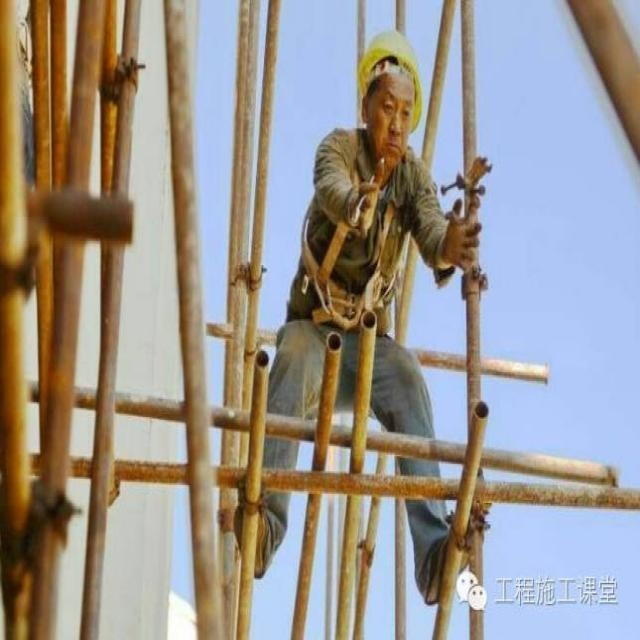Arnes_seguridad: (306, 122, 404, 325)
